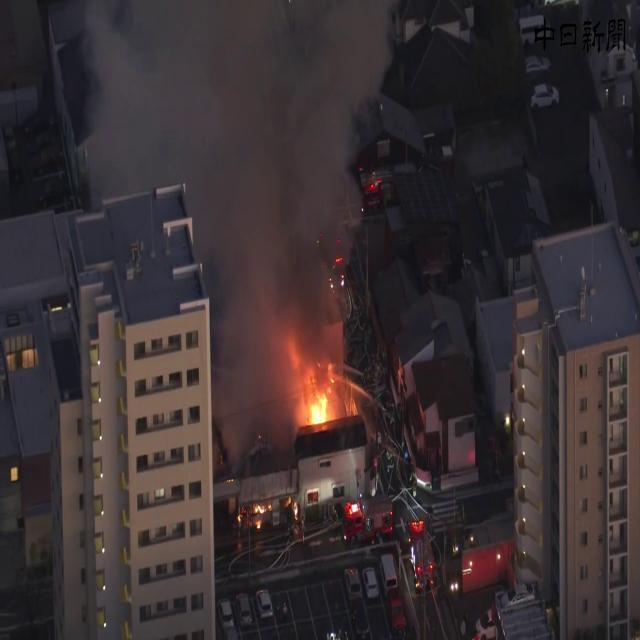Fire: (294, 364, 348, 432), (248, 498, 274, 534)
Smoke: (72, 0, 398, 362)
